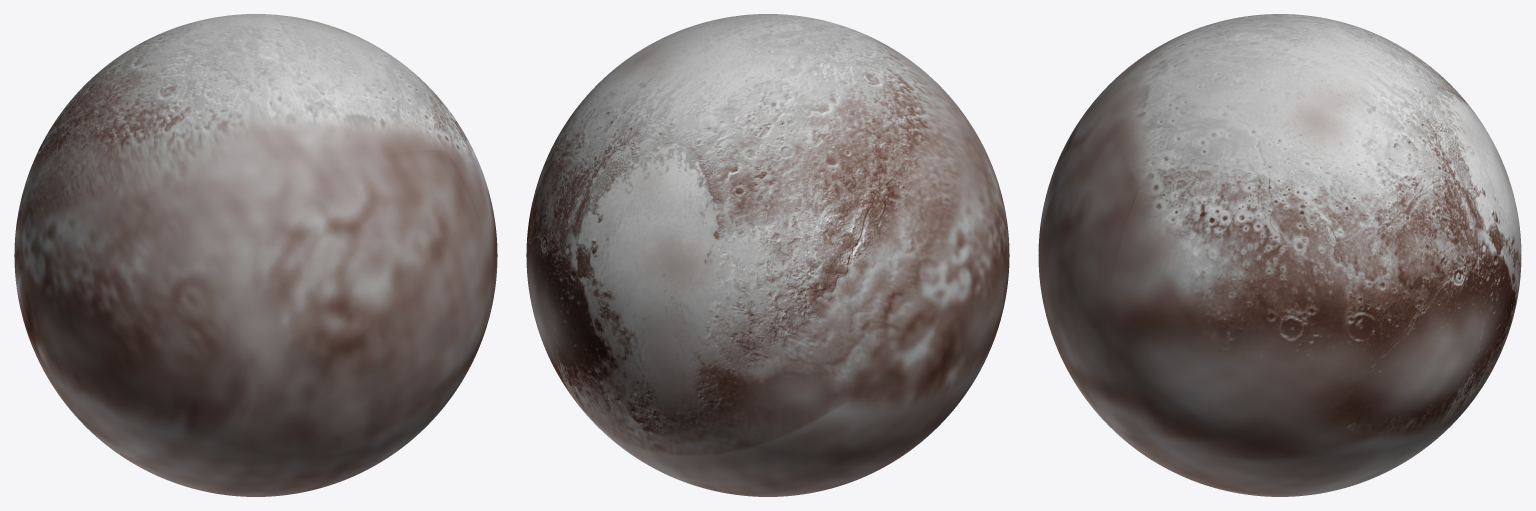
File: pluto.glb
The picture shows the model from 3 angles, left to right: view 1: azimuth 30°, elevation 25°; view 2: azimuth 150°, elevation 25°; view 3: azimuth 270°, elevation 25°; orthographic projection.
Visible parts, largest first — view 1: pluto_globe; view 2: pluto_globe; view 3: pluto_globe.
Boxes of the visible parts, x1,y1,x2,y2 form: pluto_globe: (14,14,497,496); pluto_globe: (526,14,1009,496); pluto_globe: (1038,14,1521,496).
Bounding box in the file's own units: 2 × 2 × 2.
1 material, 1 textured.
